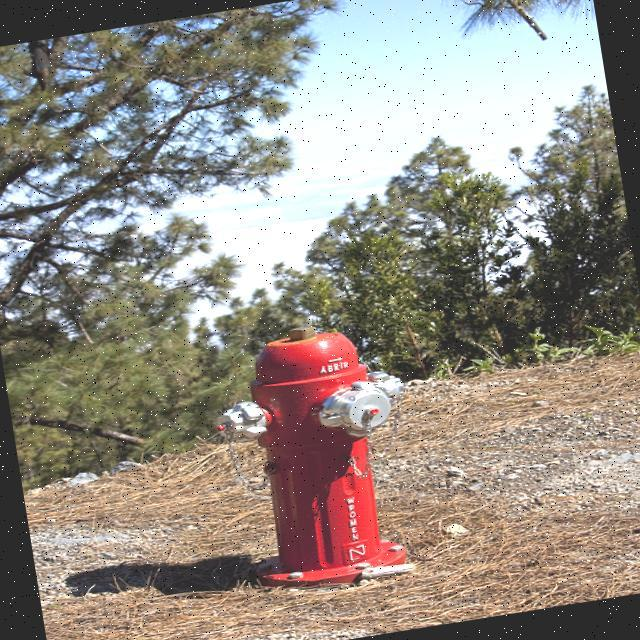fire_hydrant: (198, 311, 414, 602)
